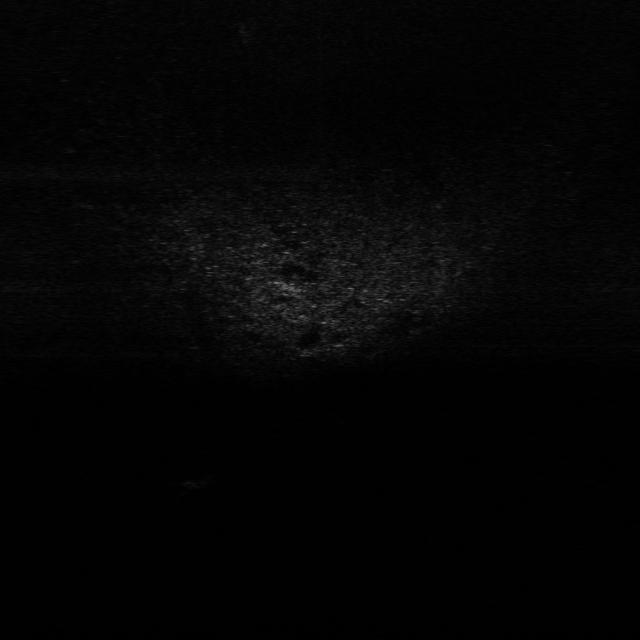cylinder: (180, 468, 216, 492)
